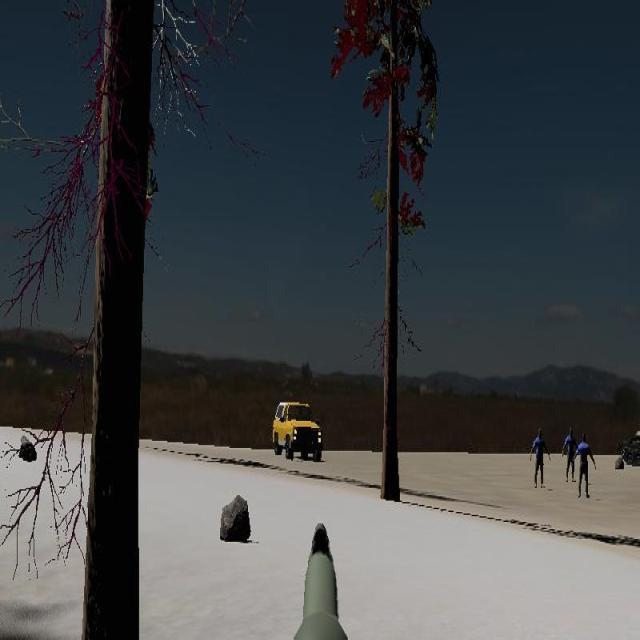Human: (573, 431, 596, 500), (530, 427, 550, 488), (562, 426, 578, 483)
Tank: (620, 424, 640, 467)
car: (272, 400, 323, 462)
